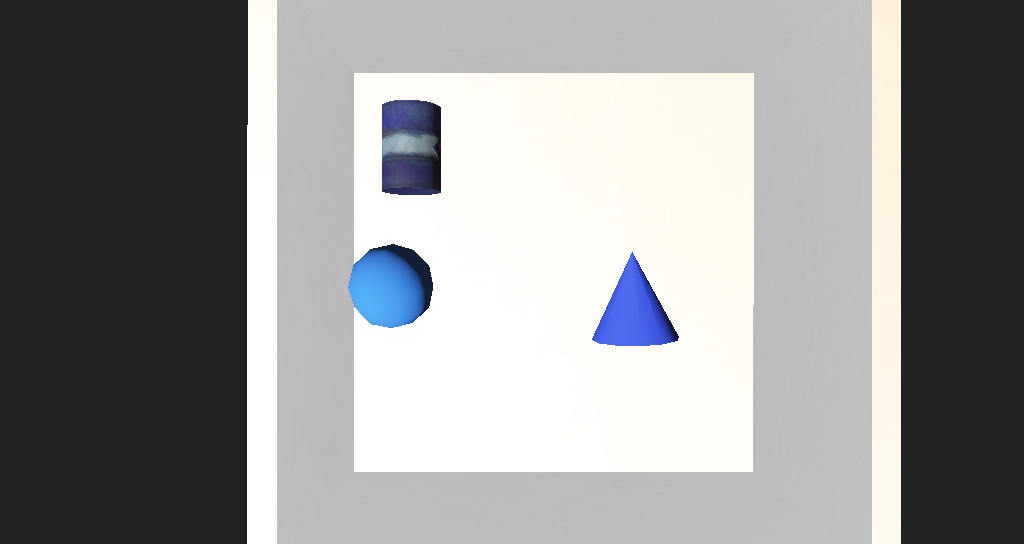cone: (371, 177, 424, 224)
cylinder: (522, 255, 610, 308)
sphere: (350, 255, 418, 298)
